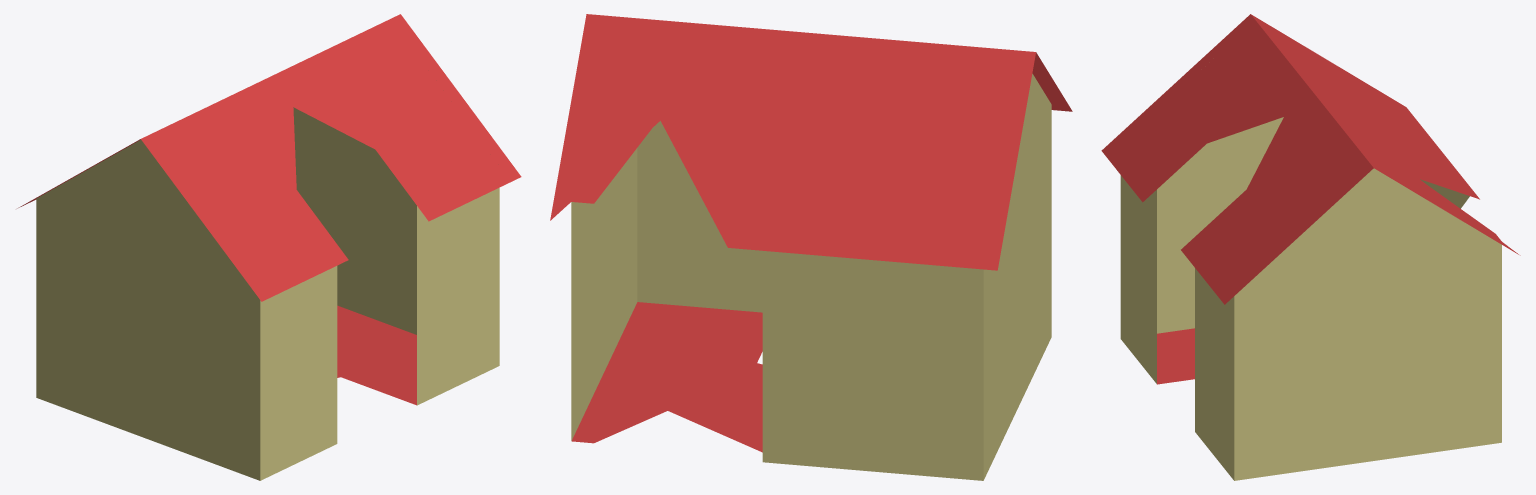
The picture shows the model from 3 angles, left to right: view 1: azimuth 30°, elevation 25°; view 2: azimuth 150°, elevation 25°; view 3: azimuth 270°, elevation 25°; orthographic projection. The views are drawn at different scales.
Size of the model in its own units: 15.45 by 13.87 by 10.91.
